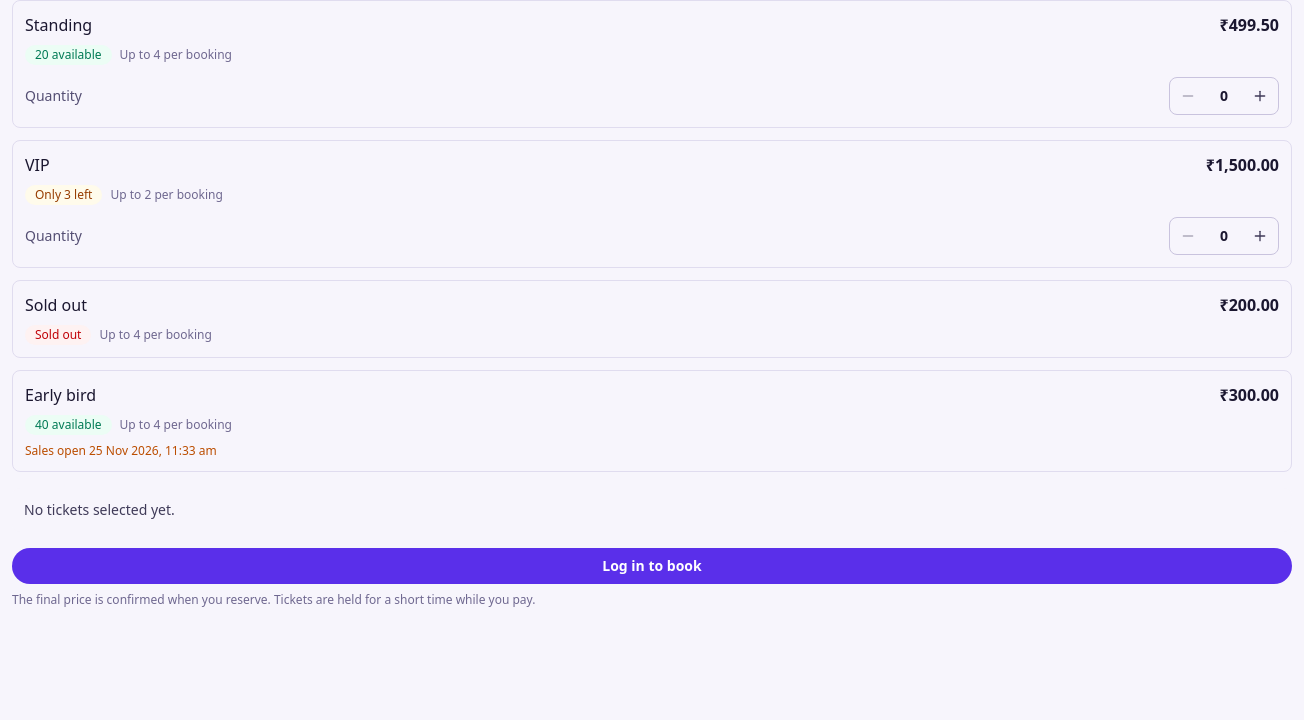
BookingPanel › sends anonymous visitors to the login page
Click the button named "Increase Standing quantity": (1260, 96) [1242,78,1278,114]
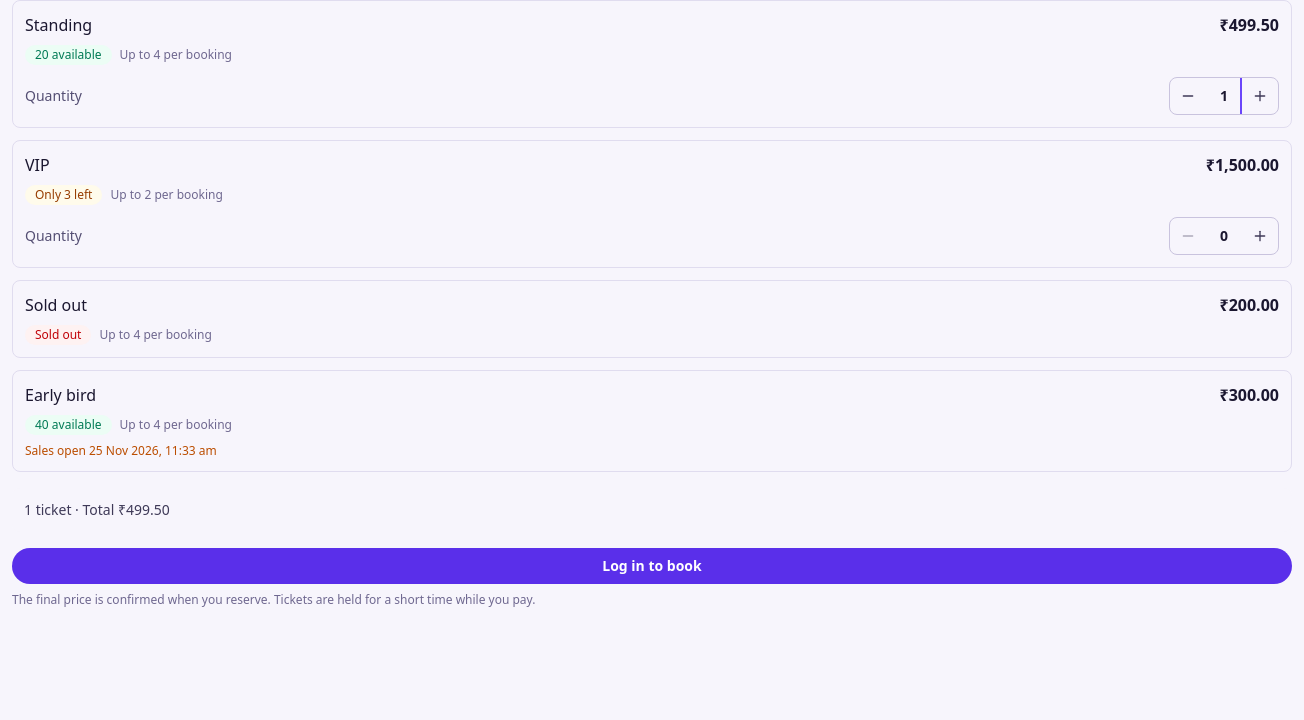
Click the button "Log in to book": (652, 566) [12,548,1292,584]
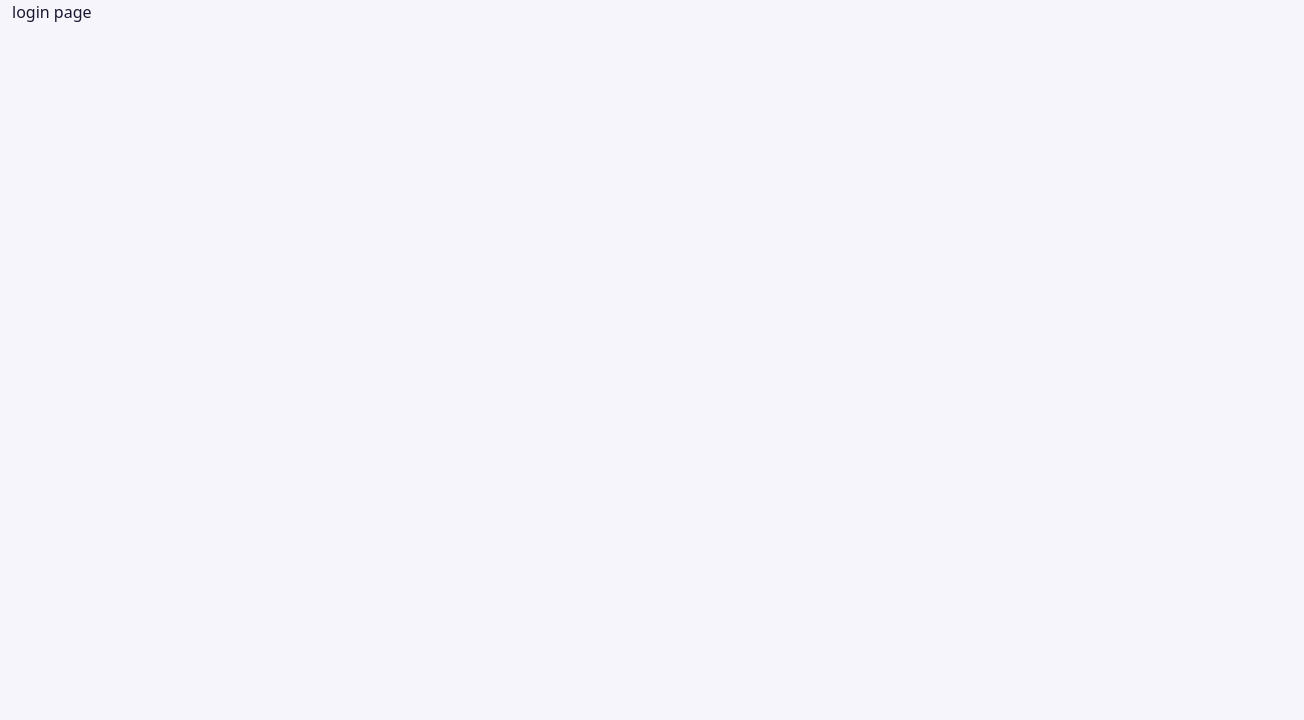
expect the text "login page" is shown: met, box [12,1,92,23]
